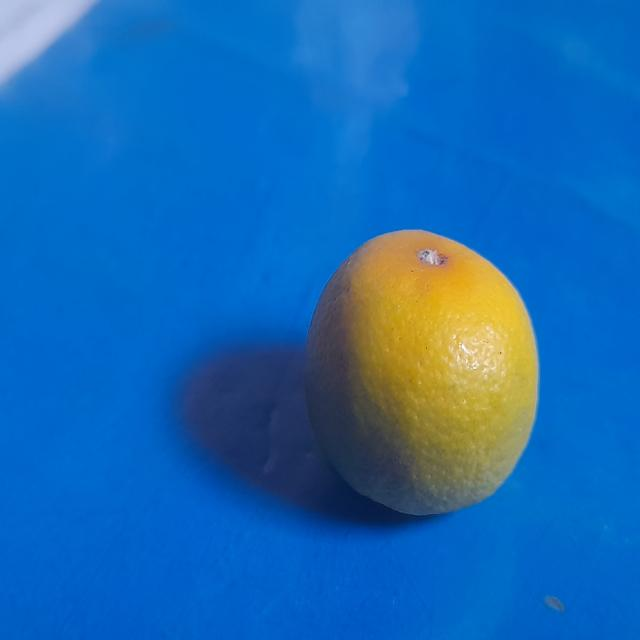greening: (301, 228, 545, 526)
